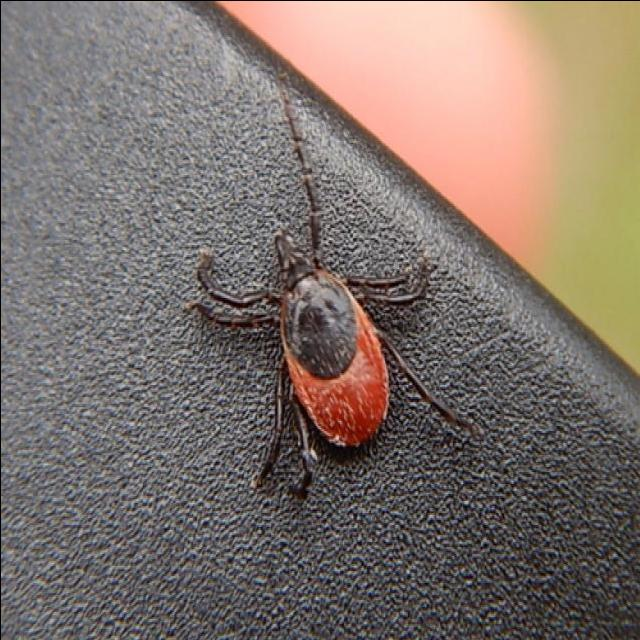Ixodes Ricinus-F: (186, 85, 479, 500)
